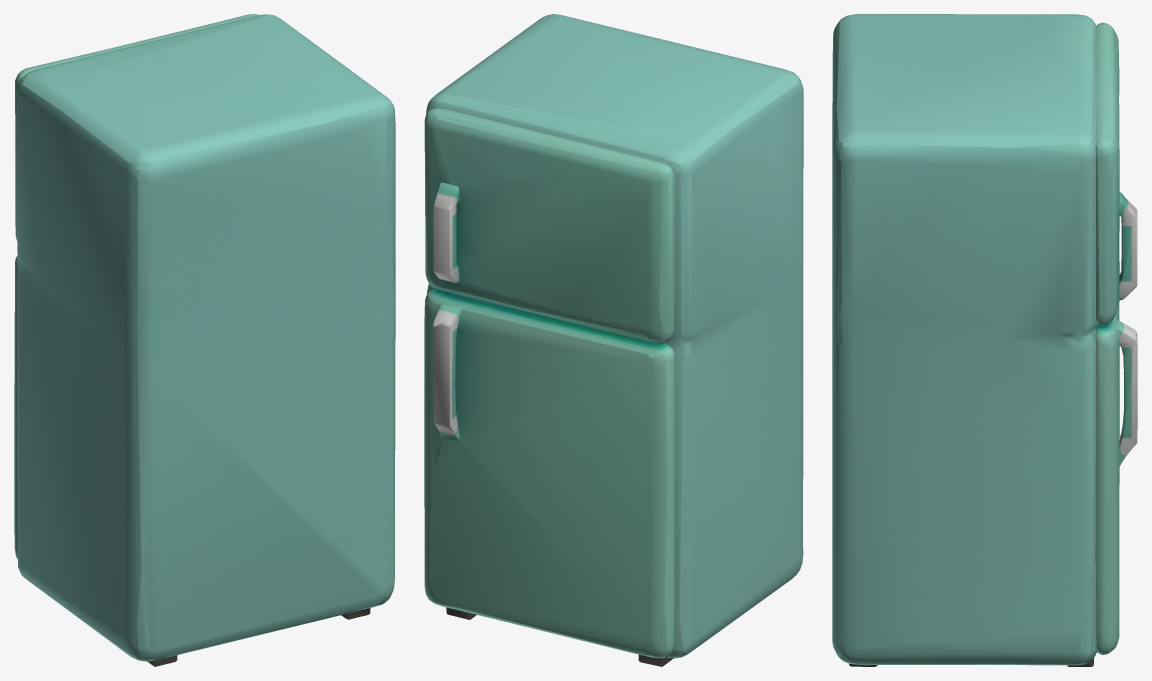
The model's file is Prop_Fridge_AI.glb.
3 views of the same model, side by side, from view 1: azimuth 30°, elevation 25°; view 2: azimuth 150°, elevation 25°; view 3: azimuth 270°, elevation 25° (orthographic). The views are drawn at different scales.
Visible parts, largest first — view 1: Prop_Fridge_AI; view 2: Prop_Fridge_AI; view 3: Prop_Fridge_AI.
Part boxes in pixels (x1,y1,x2,y2): Prop_Fridge_AI: [14, 14, 395, 666]; Prop_Fridge_AI: [424, 14, 803, 666]; Prop_Fridge_AI: [832, 14, 1137, 666].
Size of the model in its own units: 0.9713 by 1.8 by 0.9263.
2 materials, 2 textured.
